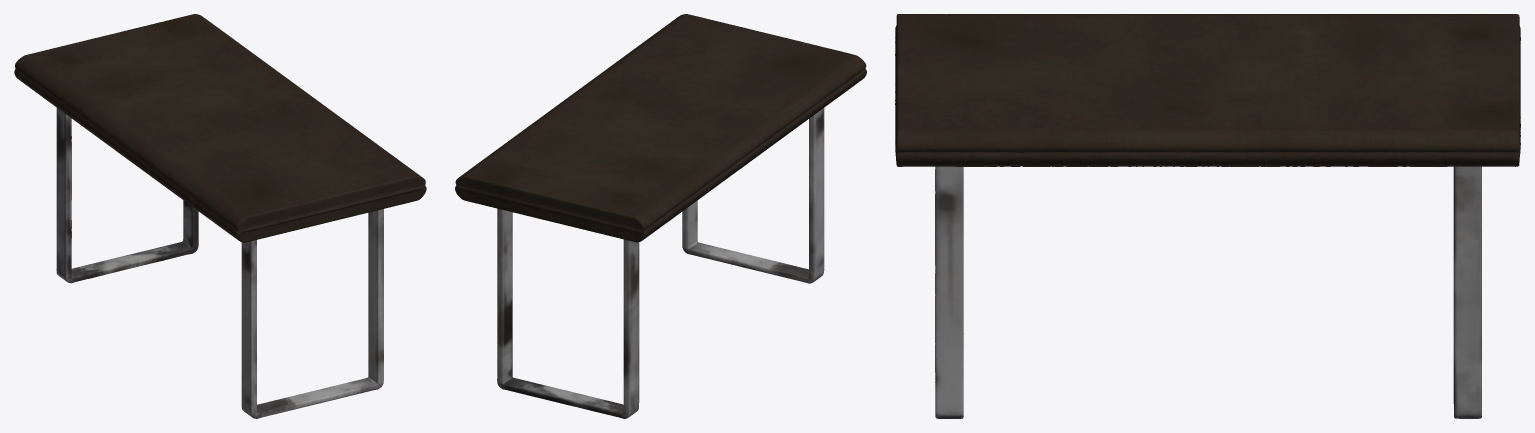
Rendered from Contemporary Dark Wood Desk with Integrated Drawers and Chrome U-Legs [bxdlLc].glb.
The picture shows the model from 3 angles, left to right: view 1: azimuth 30°, elevation 25°; view 2: azimuth 150°, elevation 25°; view 3: azimuth 270°, elevation 25°; orthographic projection. The views are drawn at different scales.
Visible parts, largest first — view 1: world; view 2: world; view 3: world.
Part boxes in pixels (left/top/right/bottom): world: left=14, top=14, right=426, bottom=418; world: left=455, top=14, right=866, bottom=418; world: left=895, top=14, right=1520, bottom=418.
Bounding box in the file's own units: 0.4943 × 0.5398 × 1.
1 material, 1 textured.
